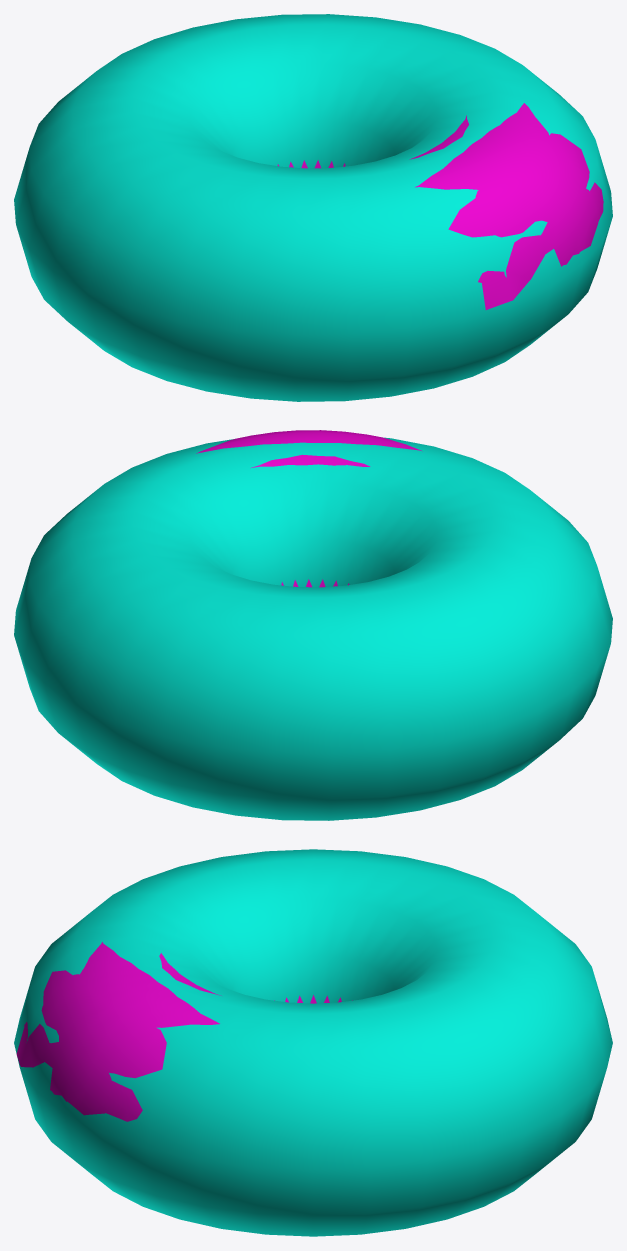
The model's file is donutEnemyFrost.glb.
3 renders of one model, top to bottom at view 1: azimuth 30°, elevation 25°; view 2: azimuth 150°, elevation 25°; view 3: azimuth 270°, elevation 25°, orthographic.
Visible parts, largest first — view 1: Donut, Icing; view 2: Donut, Icing; view 3: Donut, Icing.
Part boxes in pixels (left/top/right/bottom): Donut: left=14, top=14, right=612, bottom=401; Icing: left=277, top=103, right=603, bottom=309; Donut: left=14, top=437, right=612, bottom=820; Icing: left=196, top=430, right=422, bottom=587; Donut: left=14, top=849, right=612, bottom=1236; Icing: left=16, top=942, right=352, bottom=1121.
Bounding box in the file's own units: 1.28 × 0.5 × 1.28.
